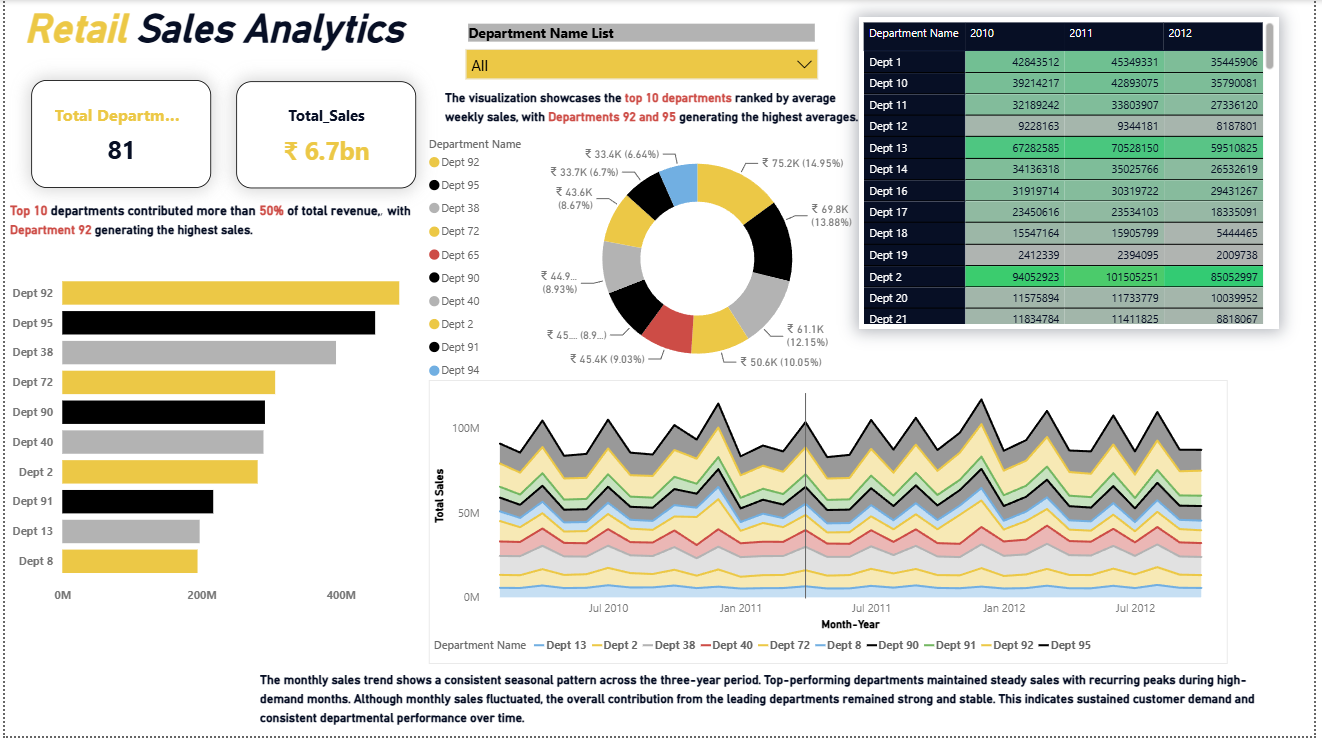

Layout of this report page (visuals, bound fields, positions):
{"tool":"powerbi","page":{"name":"Department Performance","canvas":[1280,720],"ordinal":2},"visuals":[{"type":"textbox","box":[15.1,0,548.9,64.5],"z":0},{"type":"barChart","title":"Total Sales by Store Id","fields":{"Category":["gold dim_department.department_name"],"Y":["Table.Total_Sales"]},"box":[1.8,250.4,415.6,349.2],"z":1000},{"type":"pivotTable","fields":{"Rows":["gold dim_department.department_name"],"Values":["Table.Total_Sales"],"Columns":["gold dim_date.calendar_year"]},"box":[835.5,17.5,411.4,304.4],"z":2000},{"type":"slicer","fields":{"Values":["gold dim_department.department_name"]},"box":[440,18,365,84],"z":3000},{"type":"cardVisual","fields":{"Data":["Table.Total Departments"]},"box":[25.1,78.1,175.9,105.9],"z":4000},{"type":"stackedAreaChart","fields":{"Y":["Table.Total_Sales"],"Series":["gold dim_department.department_name"],"Category":["gold dim_date.full_date.Variation.Date Hierarchy.Year","gold dim_date.full_date.Variation.Date Hierarchy.Month"]},"box":[414.7,371.6,780.9,277.4],"z":5000},{"type":"donutChart","fields":{"Category":["gold dim_department.department_name"],"Y":["Table.Avg_WeeklySales"]},"box":[410.2,110.4,425.5,286.3],"z":6000},{"type":"cardVisual","fields":{"Data":["Table.Total_Sales"]},"box":[226.2,79.9,175.9,105],"z":7000},{"type":"textbox","box":[0,191.2,402.1,59.2],"z":8000},{"type":"textbox","box":[425.5,79.9,429.1,60.1],"z":9000},{"type":"textbox","box":[244.2,649,1002.6,70.9],"z":10000}]}

Visuals, with their boxes in screenshot pixels (x1, y1, x2, y2), scaled from the page's 1280x720 canvas onto the 1322x740 screenshot:
textbox: 16 0 583 66
"Total Sales by Store Id" barChart: 2 257 431 616
pivotTable - gold dim_department.department_name x Table.Total_Sales: 863 18 1288 331
slicer - gold dim_department.department_name: 454 18 831 105
cardVisual - Table.Total Departments: 26 80 208 189
stackedAreaChart - Table.Total_Sales x gold dim_department.department_name: 428 382 1235 667
donutChart - gold dim_department.department_name x Table.Avg_WeeklySales: 424 113 863 408
cardVisual - Table.Total_Sales: 234 82 415 190
textbox: 0 197 415 257
textbox: 439 82 883 144
textbox: 252 667 1288 739
